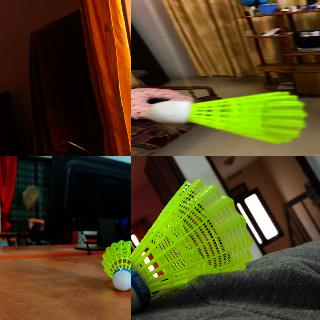shuttlecock: (131, 179, 252, 316), (147, 91, 306, 144), (101, 239, 130, 291)
